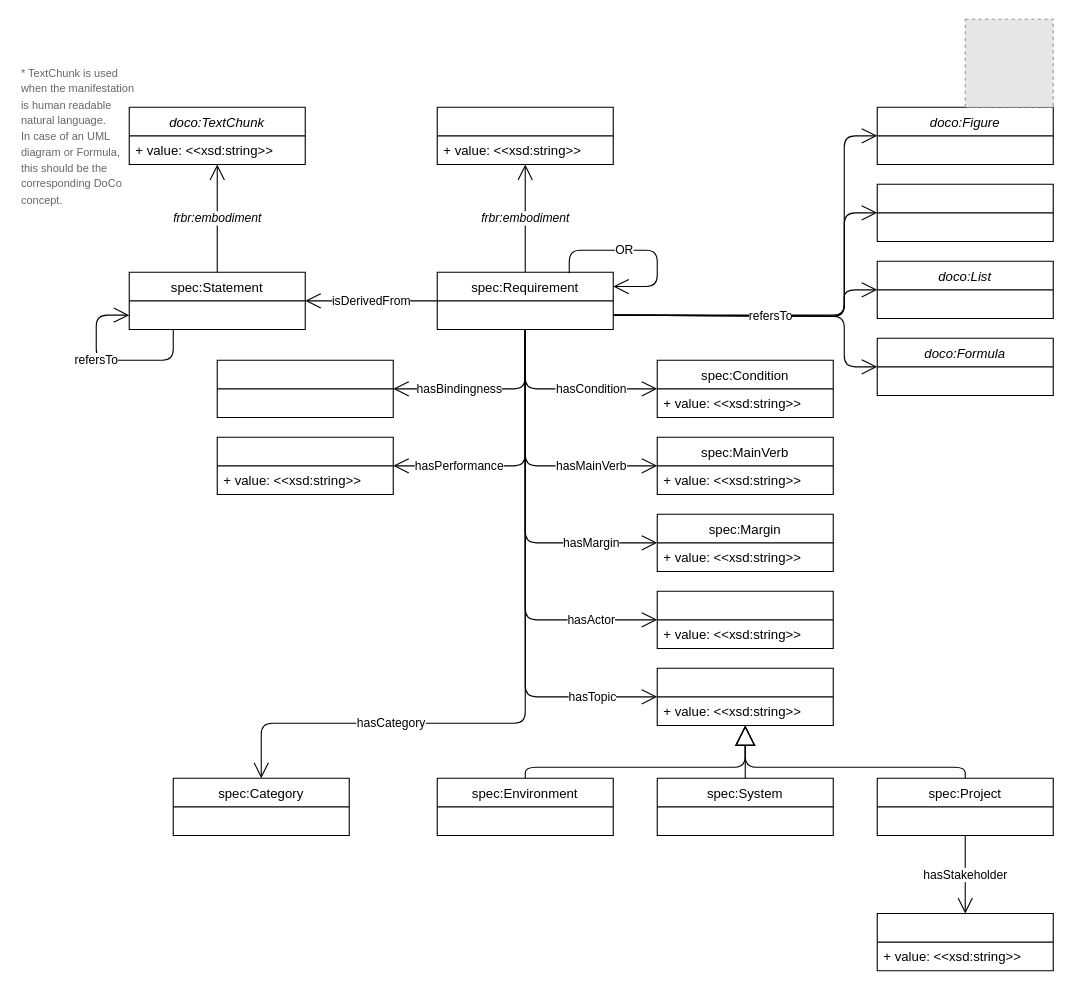
Some shapes in this 1073 by 993 pixel diagram are drawn without their labels. Grey dashed boxes stand in for pictures. The shapes that lost their labels are listed below. From the top down, each one's box as (x1, y1, x2, y2) in pixels, then its label:
(436, 106, 613, 164): doco:Sentence
(876, 183, 1053, 241): doco:Table
(216, 359, 393, 417): spec:Bindingness
(216, 436, 393, 494): spec:Performance
(656, 590, 833, 648): spec:Actor
(656, 667, 833, 725): spec:Topic
(876, 912, 1053, 971): spec:Stakeholder
